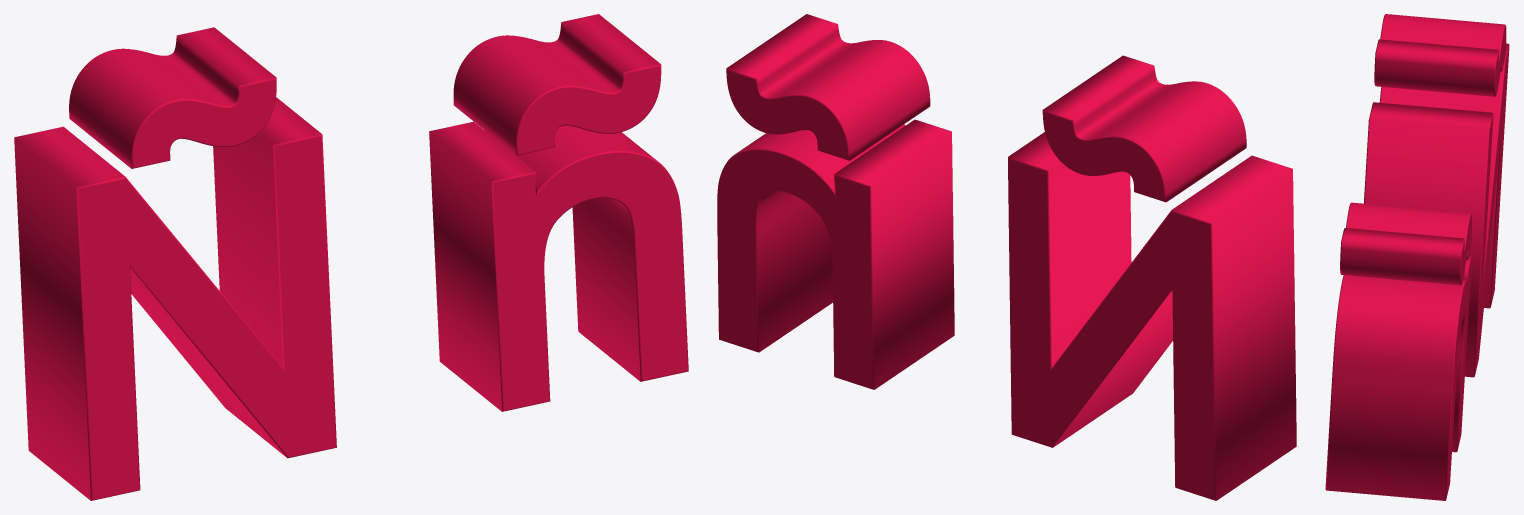
File: ObjectNI.fbx
The picture shows the model from 3 angles, left to right: view 1: azimuth 30°, elevation 25°; view 2: azimuth 150°, elevation 25°; view 3: azimuth 270°, elevation 25°; orthographic projection. The views are drawn at different scales.
Parts seen in each view (by area): view 1: Text; view 2: Text; view 3: Text.
Part boxes in pixels (x1,y1,x2,y2): Text: (14,14,688,500); Text: (717,14,1296,500); Text: (1325,14,1509,500).
Size of the model in its own units: 272 by 171 by 92.9.
